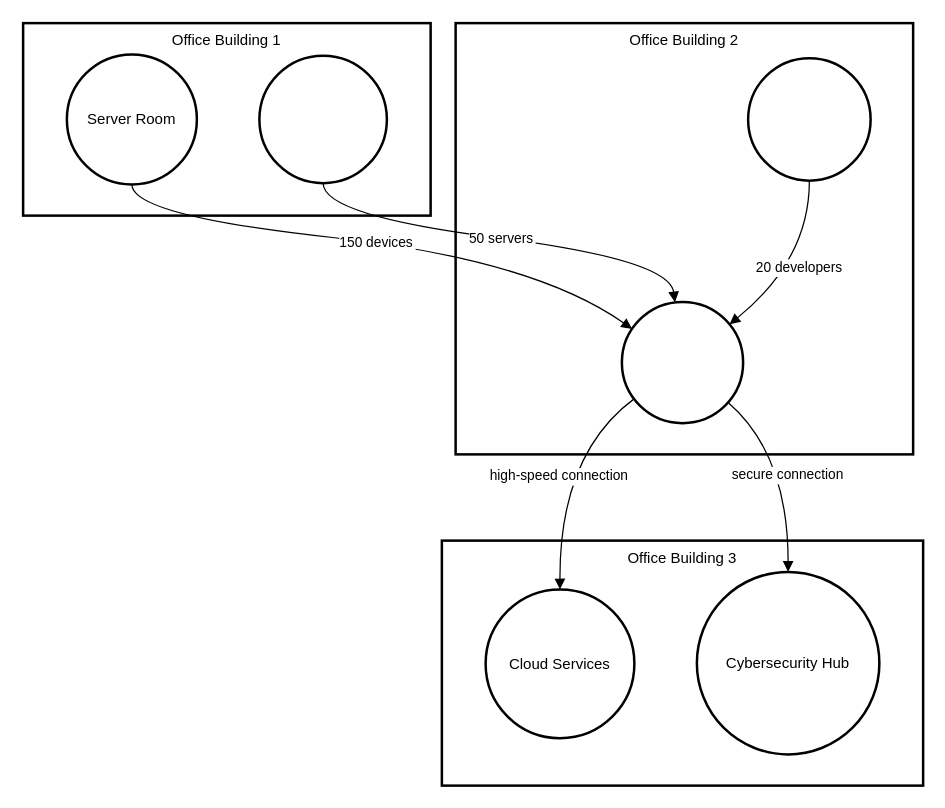
The diagram is 945 pixels wide and 808 high, and some of its shapes have lost their labels. The shapes that lost their labels are listed below. From the top down, each one's centre as x and y in pixels, then its label:
the point at 323,119: Data Center
the point at 808,118: DevOps Lab
the point at 682,362: Main Office
